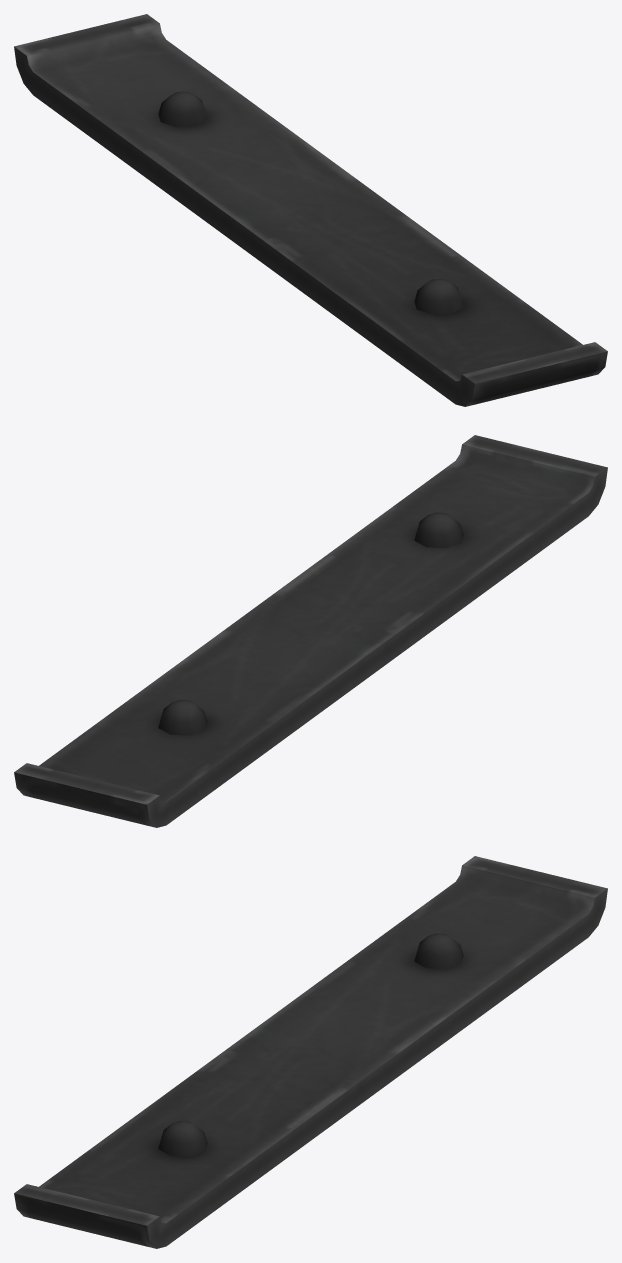
Rendered from blue_steel_landing_skid_srf_2_skid.obj.
3 views of the same model, one above another, from view 1: azimuth 30°, elevation 25°; view 2: azimuth 150°, elevation 25°; view 3: azimuth 330°, elevation 25° (orthographic).
Parts seen in each view (by area): view 1: mesh1; view 2: mesh1; view 3: mesh1.
Part boxes in pixels (x1,y1,x2,y2): mesh1: (14,14,607,406); mesh1: (14,435,607,827); mesh1: (14,856,607,1248).
Bounding box in the file's own units: 0.15 × 0.05 × 0.9.
